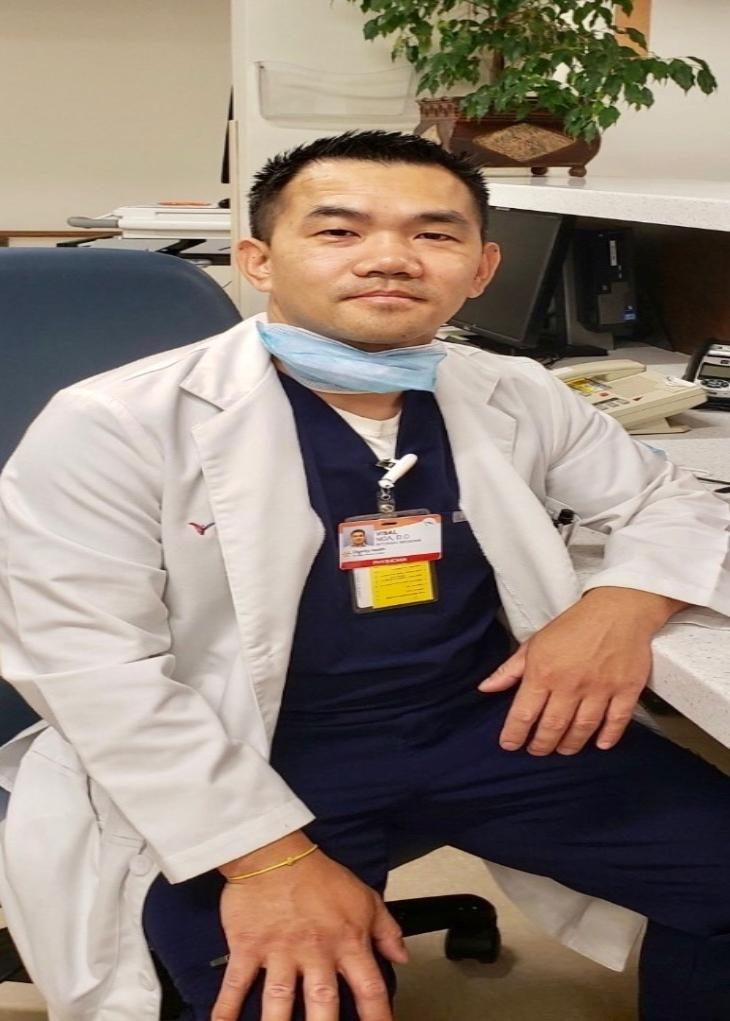mask_weared_incorrect: (235, 130, 496, 366)
